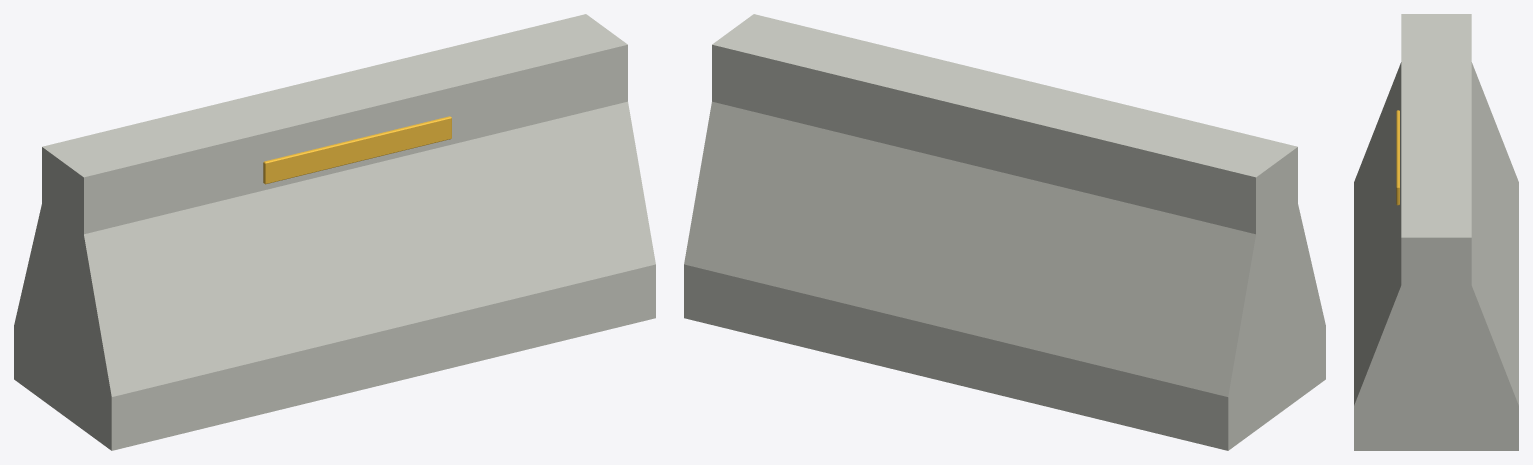
Rendered from Road_Divider_Concrete.glb.
The picture shows the model from 3 angles, left to right: view 1: azimuth 30°, elevation 25°; view 2: azimuth 150°, elevation 25°; view 3: azimuth 270°, elevation 25°; orthographic projection. The views are drawn at different scales.
Visible parts, largest first — view 1: Road_Divider_Concrete; view 2: Road_Divider_Concrete; view 3: Road_Divider_Concrete.
Part boxes in pixels (box(x1,y1,x2,y2)): Road_Divider_Concrete: box(14, 14, 655, 450); Road_Divider_Concrete: box(684, 14, 1325, 450); Road_Divider_Concrete: box(1354, 14, 1518, 450).
Bounding box in the file's own units: 1.8 × 0.8 × 0.56.
